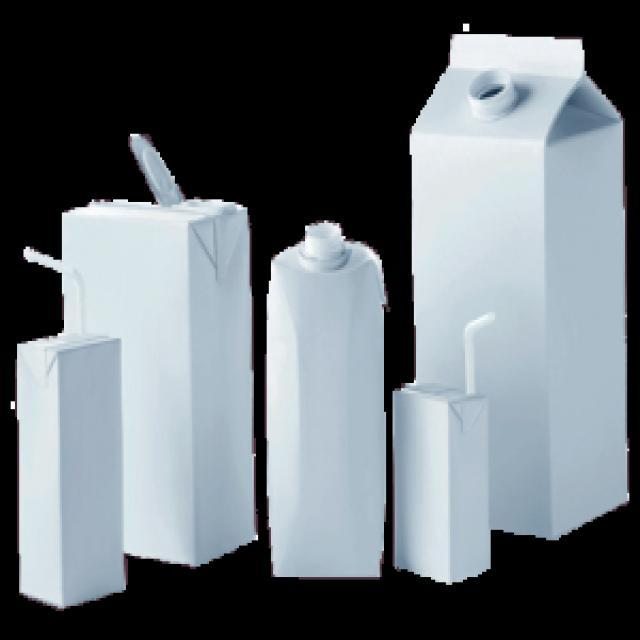Tetra: (62, 197, 262, 571), (15, 310, 124, 605), (396, 370, 489, 595)
